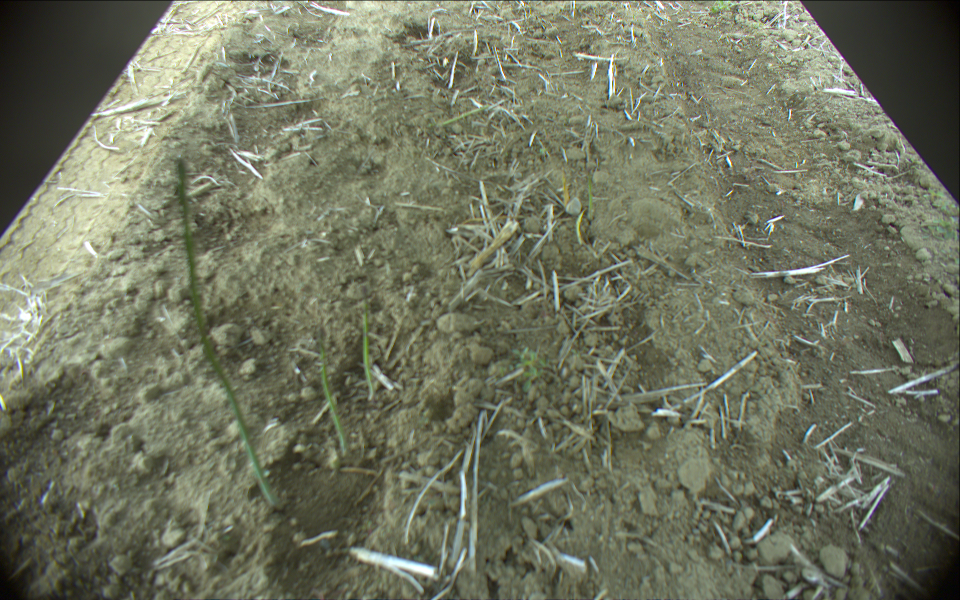aspa: (173, 153, 280, 505), (313, 337, 354, 456), (356, 310, 375, 403), (438, 103, 490, 133), (583, 169, 602, 224)
